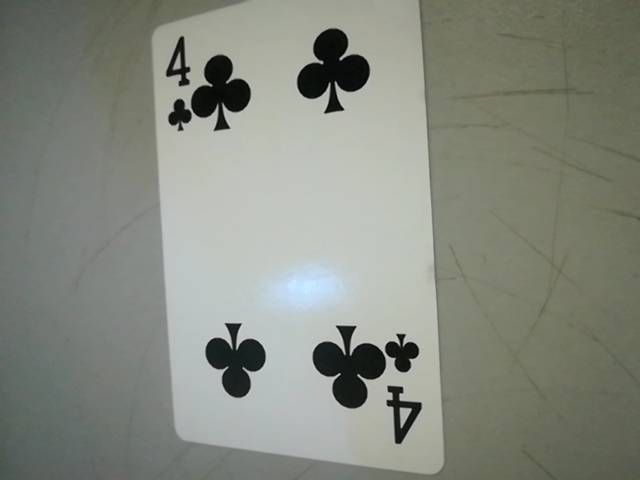mh 4: (376, 325, 436, 459)
